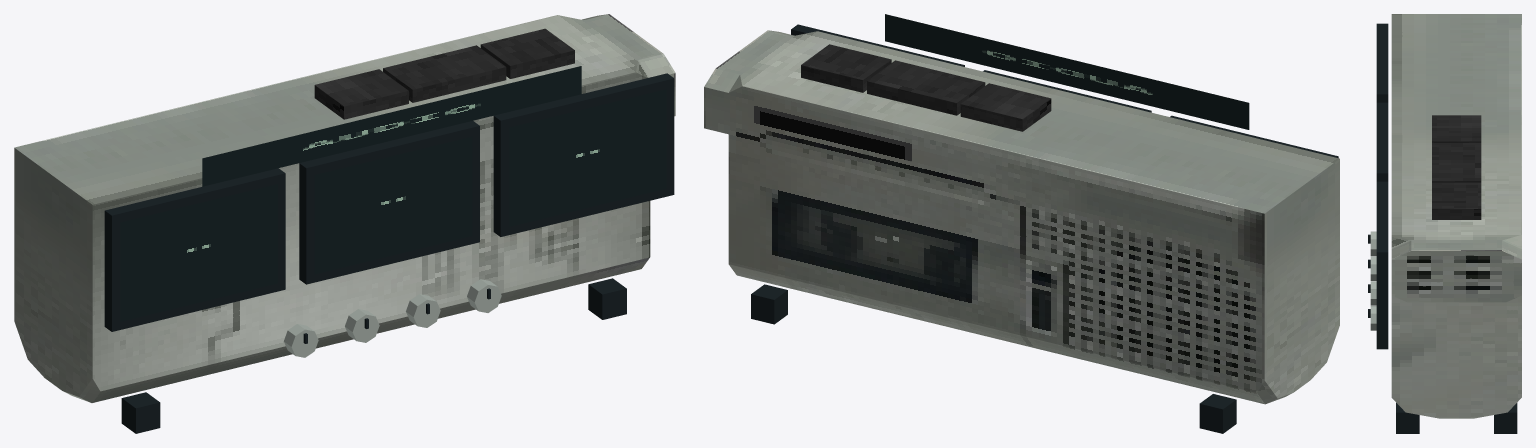
Rendered from blender_sound_monitor_3.glb.
3 renders of one model, left to right at view 1: azimuth 30°, elevation 25°; view 2: azimuth 150°, elevation 25°; view 3: azimuth 270°, elevation 25°, orthographic. The views are drawn at different scales.
Parts seen in each view (by area): view 1: blender_sound_monitor_3; view 2: blender_sound_monitor_3; view 3: blender_sound_monitor_3.
Boxes of the visible parts, x1,y1,x2,y2 form: blender_sound_monitor_3: (14, 14, 675, 433); blender_sound_monitor_3: (704, 14, 1339, 433); blender_sound_monitor_3: (1368, 14, 1521, 433).
Size of the model in its own units: 0.43 by 0.19 by 0.118.
Materials: 1 (1 with a texture image).
